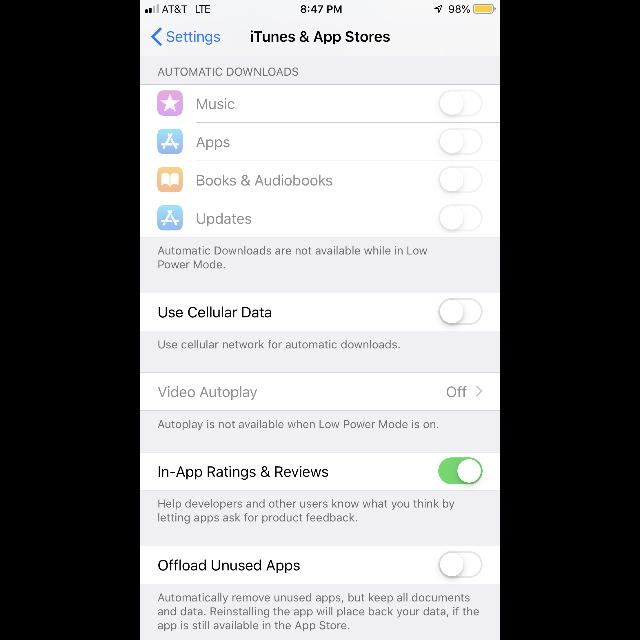icon: (158, 90, 182, 116), (152, 28, 162, 46), (476, 386, 482, 396)
image: (158, 128, 182, 154), (158, 168, 182, 192), (158, 206, 182, 230)
switch: (439, 128, 483, 156), (438, 166, 482, 194), (438, 204, 482, 232), (438, 298, 482, 326), (438, 550, 482, 578), (438, 90, 482, 116), (438, 458, 482, 484)
text: (158, 592, 480, 632), (159, 498, 455, 524), (158, 246, 428, 268), (158, 420, 438, 430), (159, 466, 329, 480), (158, 339, 400, 348), (158, 559, 300, 573), (250, 31, 390, 45), (198, 174, 332, 186), (158, 386, 258, 400), (158, 306, 272, 318), (158, 68, 298, 76), (196, 213, 252, 227), (168, 31, 220, 45), (197, 98, 235, 110), (196, 138, 230, 150), (447, 387, 467, 398)
uppertaskbar: (140, 0, 500, 14)
